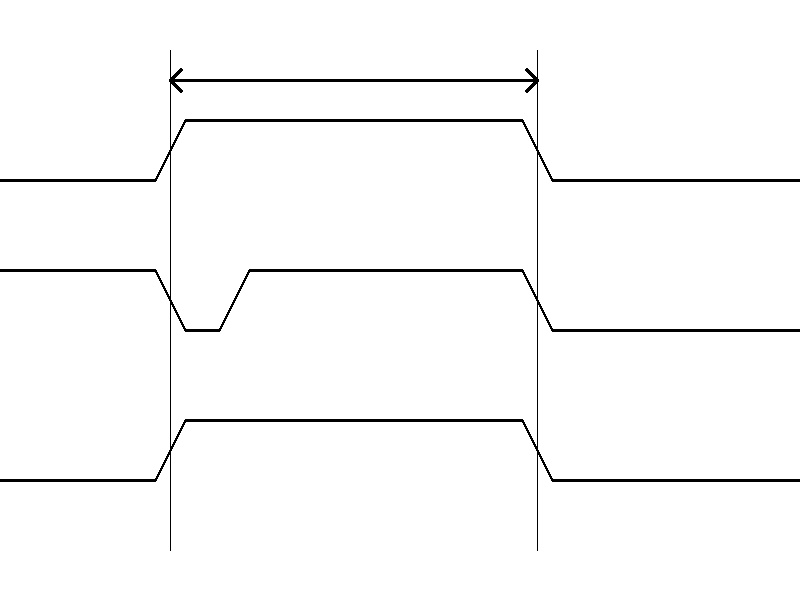double_arrow: (170, 65, 537, 95)
